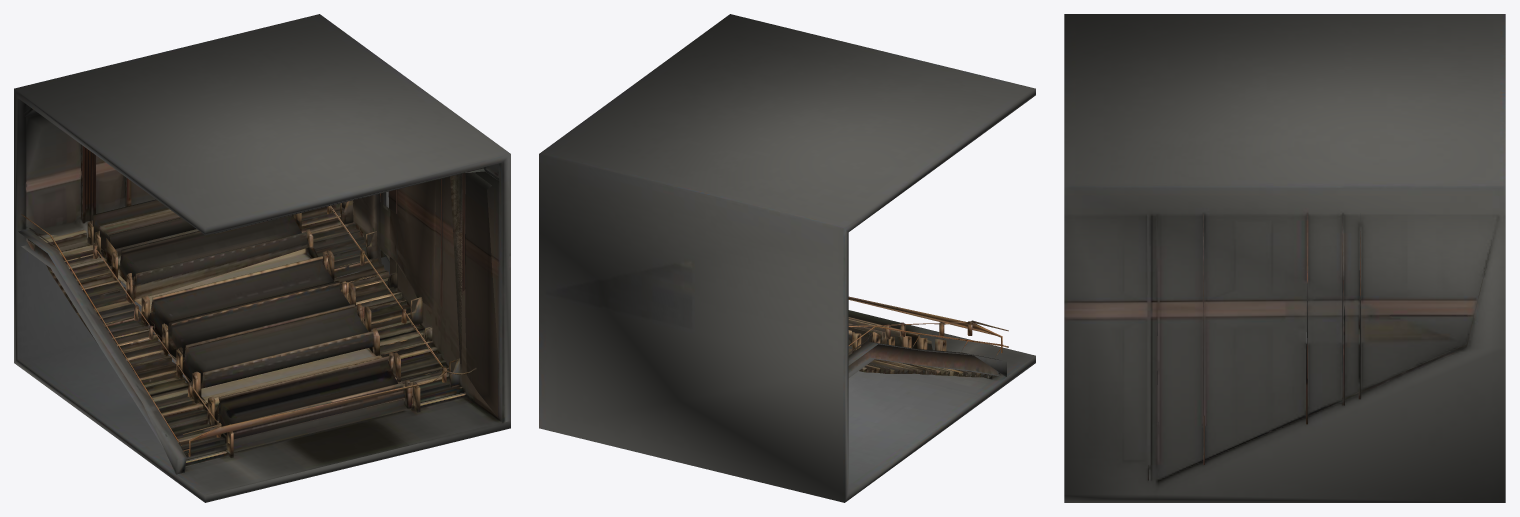
Rendered from lincoln-imax-auditorium.glb.
3 renders of one model, left to right at view 1: azimuth 30°, elevation 25°; view 2: azimuth 150°, elevation 25°; view 3: azimuth 270°, elevation 25°, orthographic. The views are drawn at different scales.
Parts seen in each view (by area): view 1: Lincoln monument IMAX auditorium; view 2: Lincoln monument IMAX auditorium; view 3: Lincoln monument IMAX auditorium.
Part boxes in pixels (x1,y1,x2,y2): Lincoln monument IMAX auditorium: (14,14,510,502); Lincoln monument IMAX auditorium: (539,14,1035,502); Lincoln monument IMAX auditorium: (1064,14,1505,502).
Bounding box in the file's own units: 0.9238 × 0.791 × 0.998.
1 material, 1 textured.
